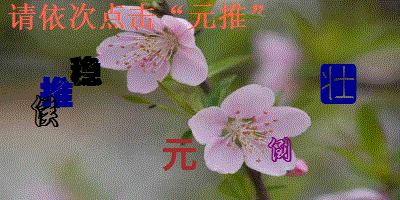text: (318, 62, 358, 105), (38, 75, 75, 109), (67, 54, 104, 88), (162, 137, 198, 171), (29, 94, 60, 129), (267, 136, 294, 163)
